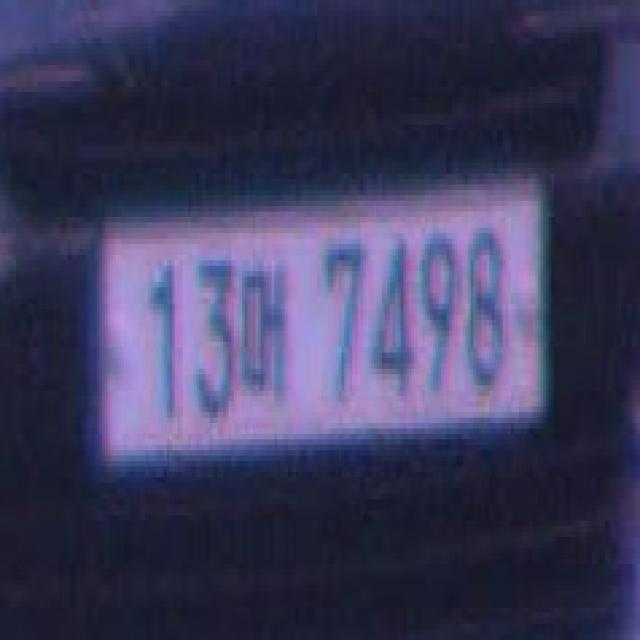1: (140, 255, 188, 439)
3: (188, 250, 240, 440)
4: (368, 233, 417, 423)
7: (317, 228, 368, 428)
8: (460, 217, 508, 423)
9: (414, 222, 463, 423)
license_plate: (91, 157, 560, 499)
meo: (239, 255, 293, 423)
